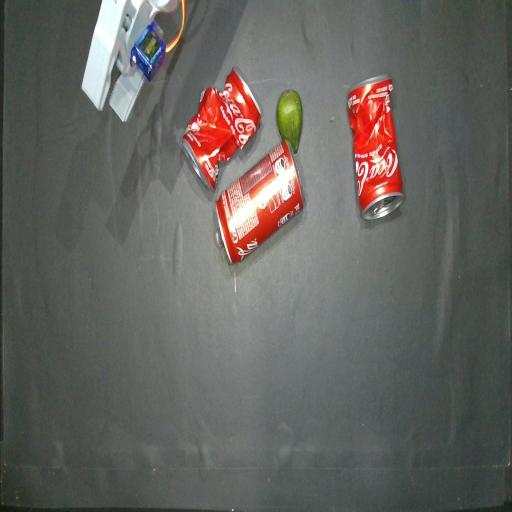higo: (277, 90, 302, 152)
lata: (216, 140, 303, 263)
lata_defectuoso: (183, 68, 261, 190), (347, 75, 403, 219)
